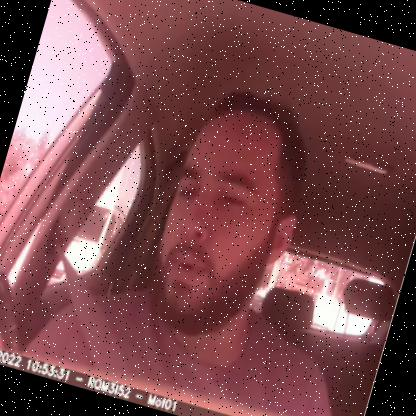phone: (0, 252, 48, 358)
